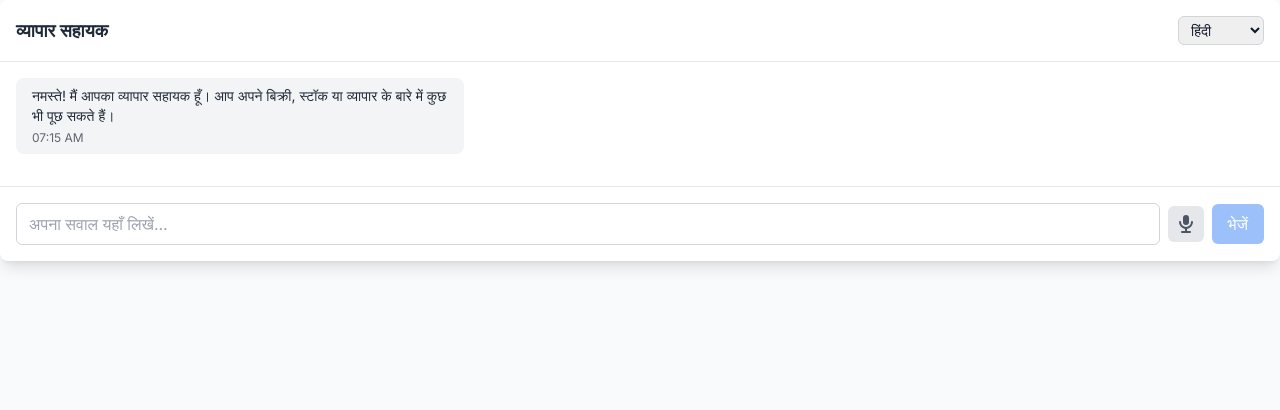
it: ChatInterface › error handling › should display localized error message in Hindi
Type "टेस्ट संदेश" into the field with placeholder "अपना सवाल यहाँ लिखें...".
click(588, 224); type("टेस्ट संदेश")  # box [16,203,1160,245]
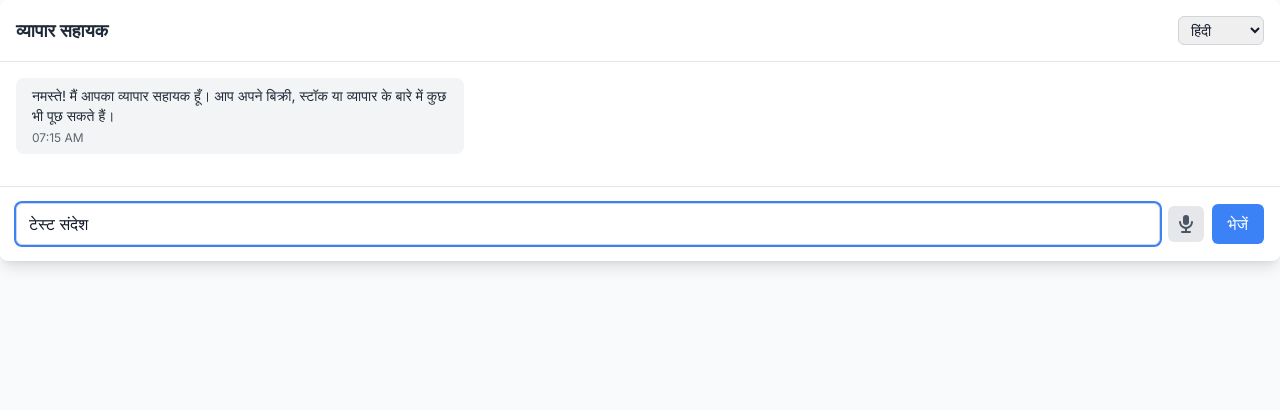
Click the button "भेजें".
click(1238, 224)  # box [1212,204,1264,244]
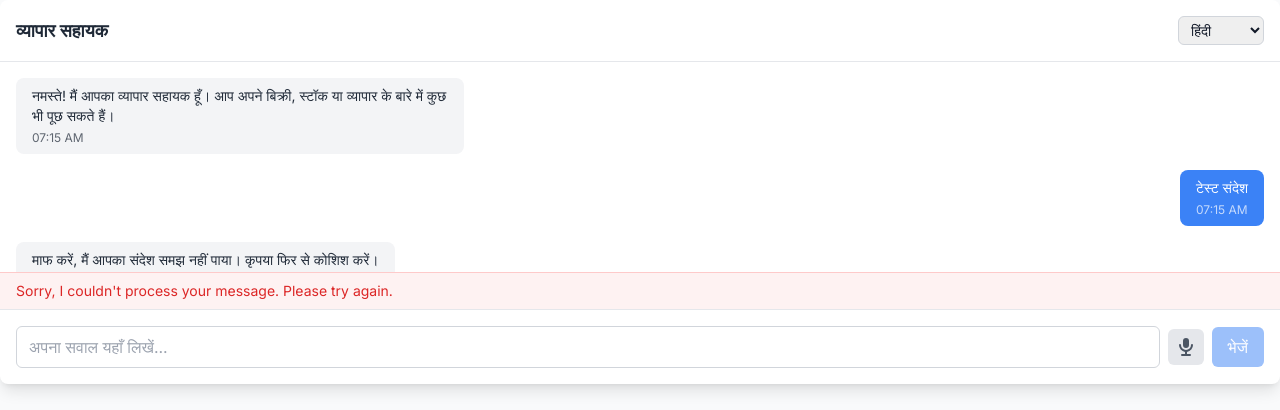
Expected: the text "माफ करें, मैं आपका संदेश समझ नहीं पाया" is shown, [32,251,379,268]
